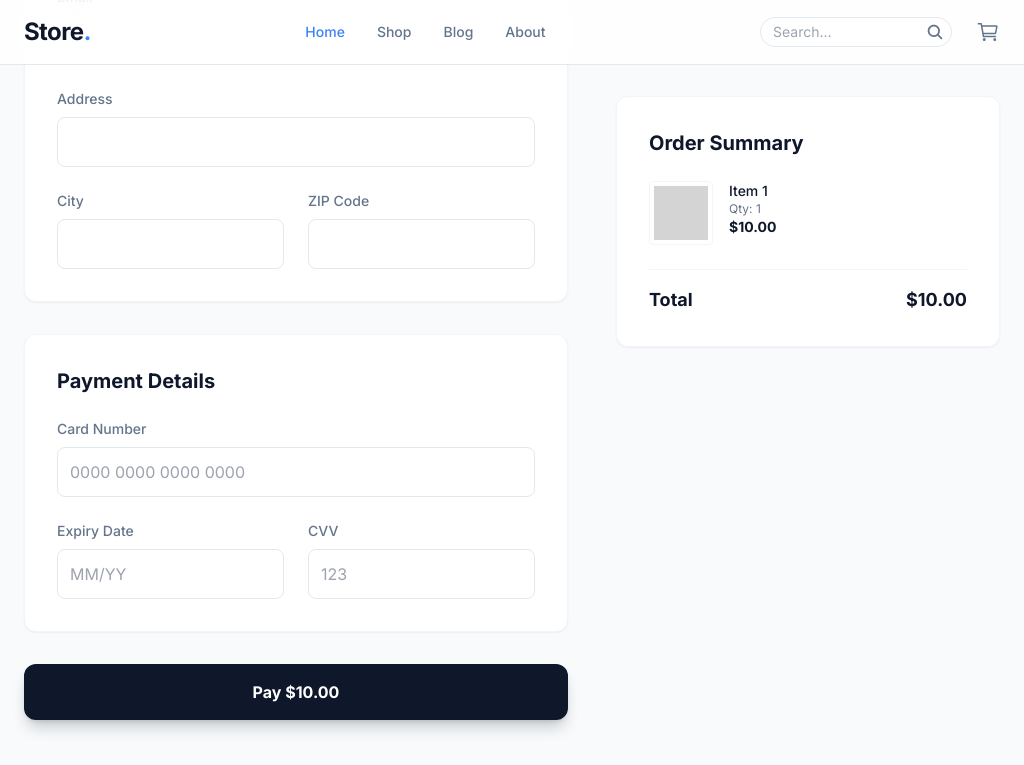
Checkout Page › validates form inputs
(page scrolled)
Step 1. Click the button "Pay $10.00" → (296, 692), box [24,664,568,720]
(page scrolled)
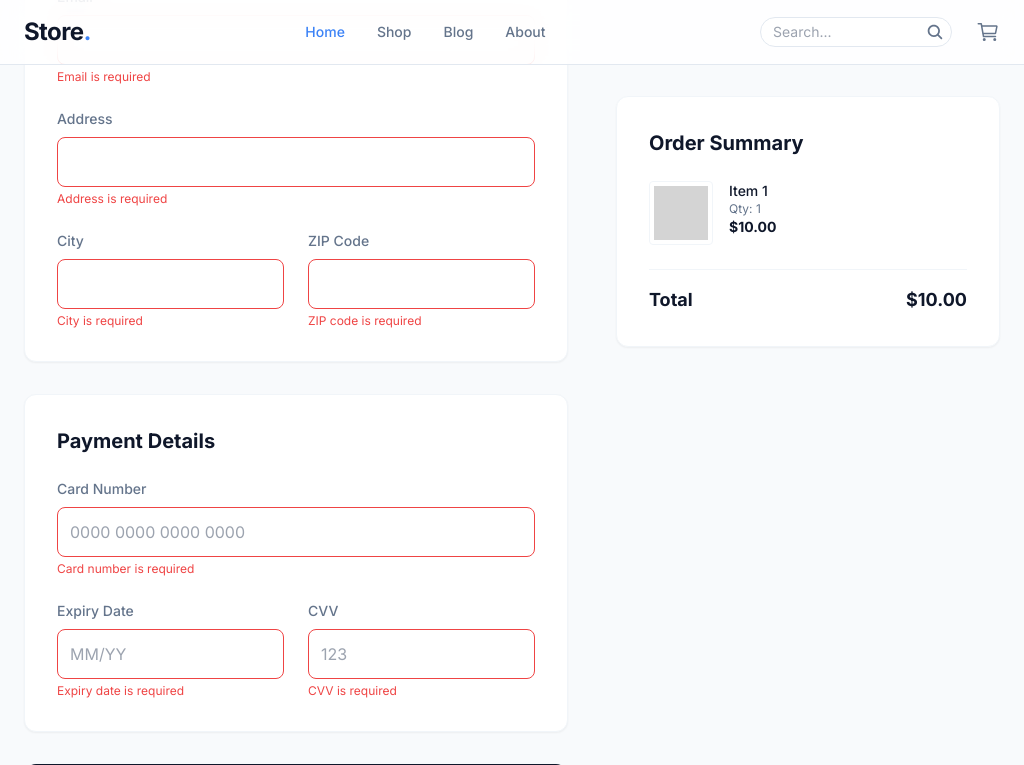
Result: the text "Email is required" is shown at [57,69,151,84]
